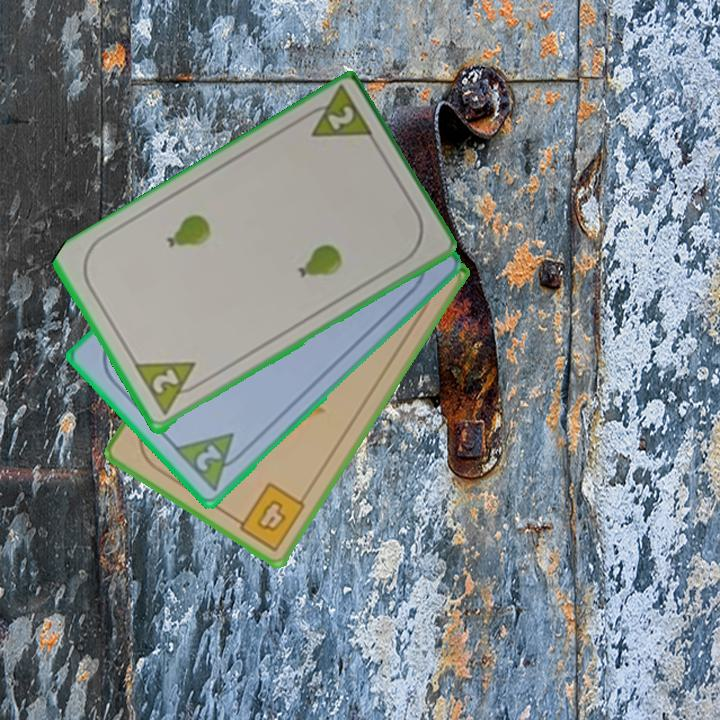2p: (296, 84, 377, 143), (131, 358, 208, 419), (192, 441, 225, 475)
4b: (228, 479, 309, 555)
